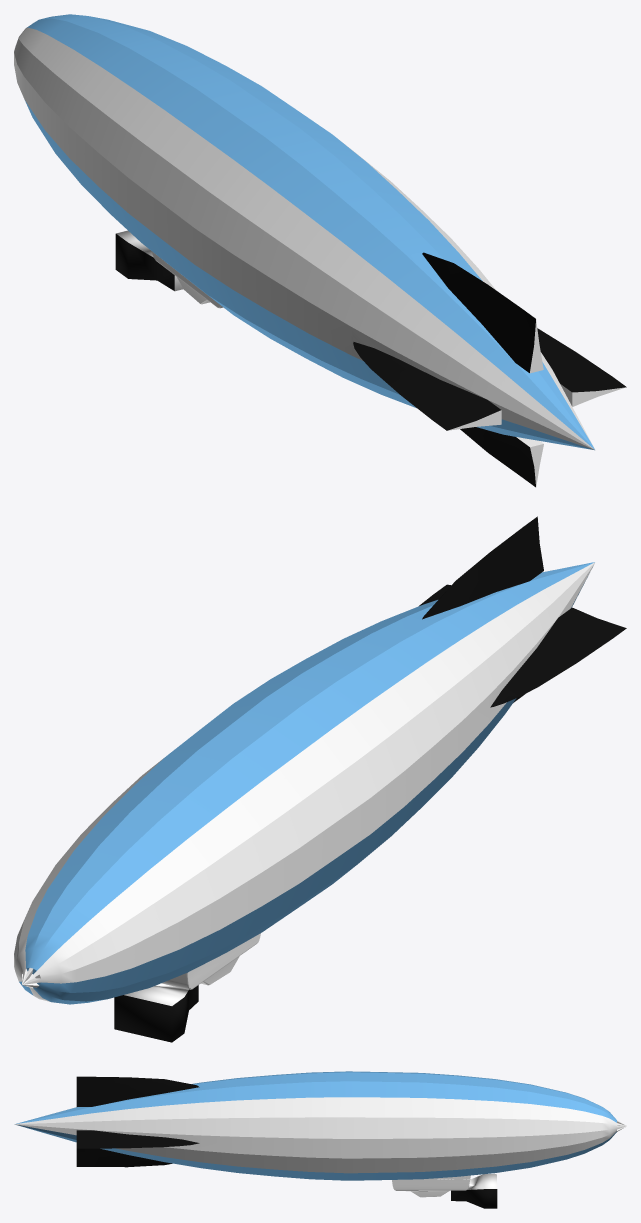
The model's file is cirrus.glb.
3 renders of one model, top to bottom at view 1: azimuth 30°, elevation 25°; view 2: azimuth 150°, elevation 25°; view 3: azimuth 270°, elevation 25°, orthographic. The views are drawn at different scales.
Parts seen in each view (by area): view 1: Zeppelin; view 2: Zeppelin; view 3: Zeppelin.
Boxes of the visible parts, left/top/right/bottom form: Zeppelin: left=14, top=14, right=626, bottom=487; Zeppelin: left=14, top=516, right=626, bottom=1042; Zeppelin: left=14, top=1071, right=626, bottom=1208.
Bounding box in the file's own units: 0.3312 × 0.4083 × 1.83.
